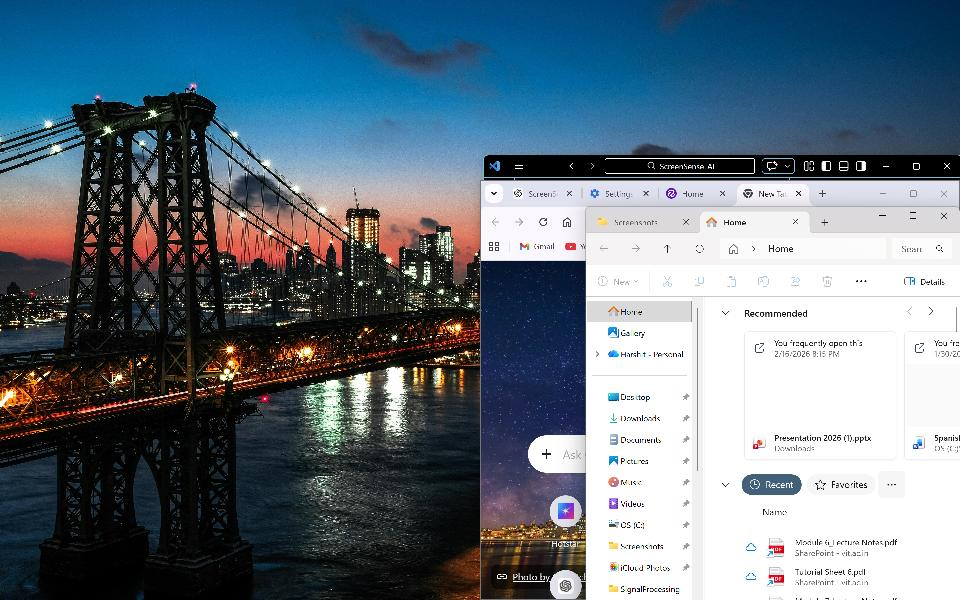close_button: (937, 158, 958, 176), (935, 185, 954, 203), (936, 210, 953, 226)
maximize_button: (904, 157, 929, 175), (904, 185, 926, 203), (904, 209, 922, 226)
minimize_button: (874, 157, 898, 176), (874, 184, 895, 205), (875, 210, 894, 229)
